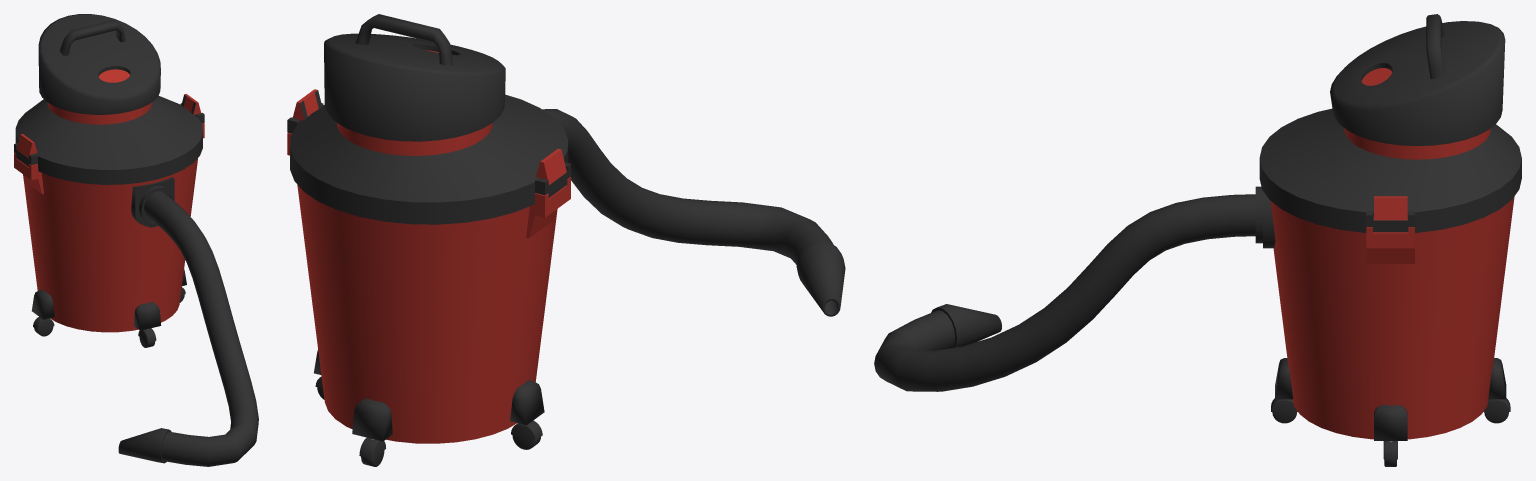
Rendered from shopVac.fbx.
3 views of the same model, side by side, from view 1: azimuth 30°, elevation 25°; view 2: azimuth 150°, elevation 25°; view 3: azimuth 270°, elevation 25° (orthographic). The views are drawn at different scales.
Visible parts, largest first — view 1: Shop Vac; view 2: Shop Vac; view 3: Shop Vac.
Part boxes in pixels (left/top/right/bottom): Shop Vac: left=14, top=14, right=258, bottom=466; Shop Vac: left=287, top=14, right=845, bottom=466; Shop Vac: left=874, top=14, right=1521, bottom=466.
Bounding box in the file's own units: 1876 × 3414 × 2294.
